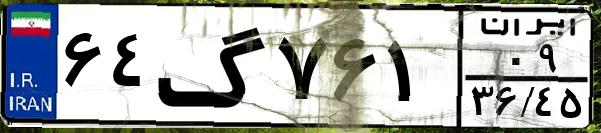0: (508, 27, 537, 80)
1: (385, 28, 445, 110)
3: (470, 70, 495, 125)
4: (110, 28, 156, 98), (535, 70, 560, 125)
5: (560, 70, 590, 125)
6: (330, 28, 385, 110), (57, 26, 110, 100), (495, 70, 520, 125)
7: (270, 28, 330, 110)
9: (537, 27, 568, 80)
گ: (156, 12, 270, 120)
